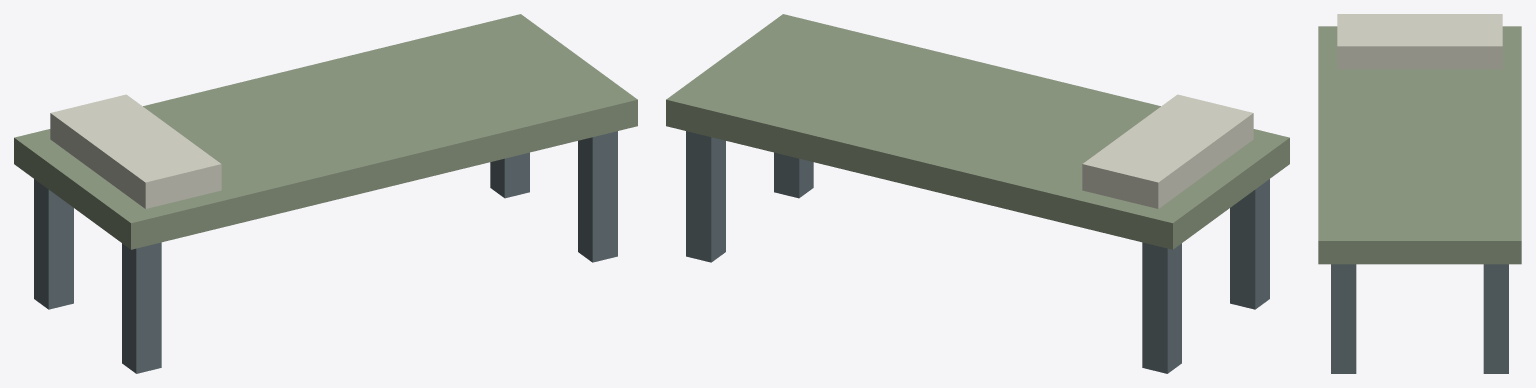
Rendered from field-cot.glb.
The picture shows the model from 3 angles, left to right: view 1: azimuth 30°, elevation 25°; view 2: azimuth 150°, elevation 25°; view 3: azimuth 270°, elevation 25°; orthographic projection. The views are drawn at different scales.
Visible parts, largest first — view 1: field-cot; view 2: field-cot; view 3: field-cot.
Boxes of the visible parts, box(x1,y1,x2,y2) form: field-cot: box(14, 14, 637, 373); field-cot: box(666, 14, 1289, 373); field-cot: box(1318, 14, 1521, 373).
Bounding box in the file's own units: 2 × 0.7001 × 0.7999.
